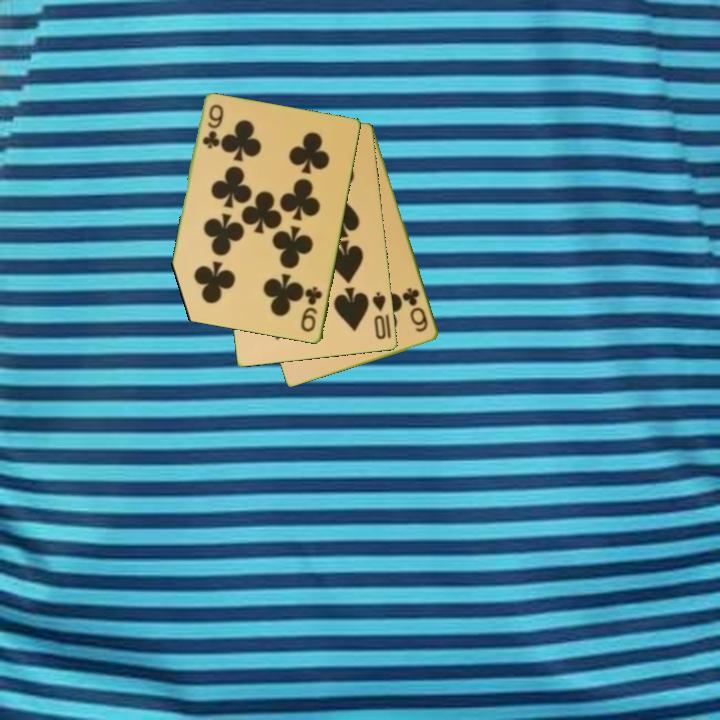10s: (369, 289, 389, 343)
6c: (400, 284, 431, 335)
9c: (298, 283, 326, 335), (199, 101, 226, 152)
